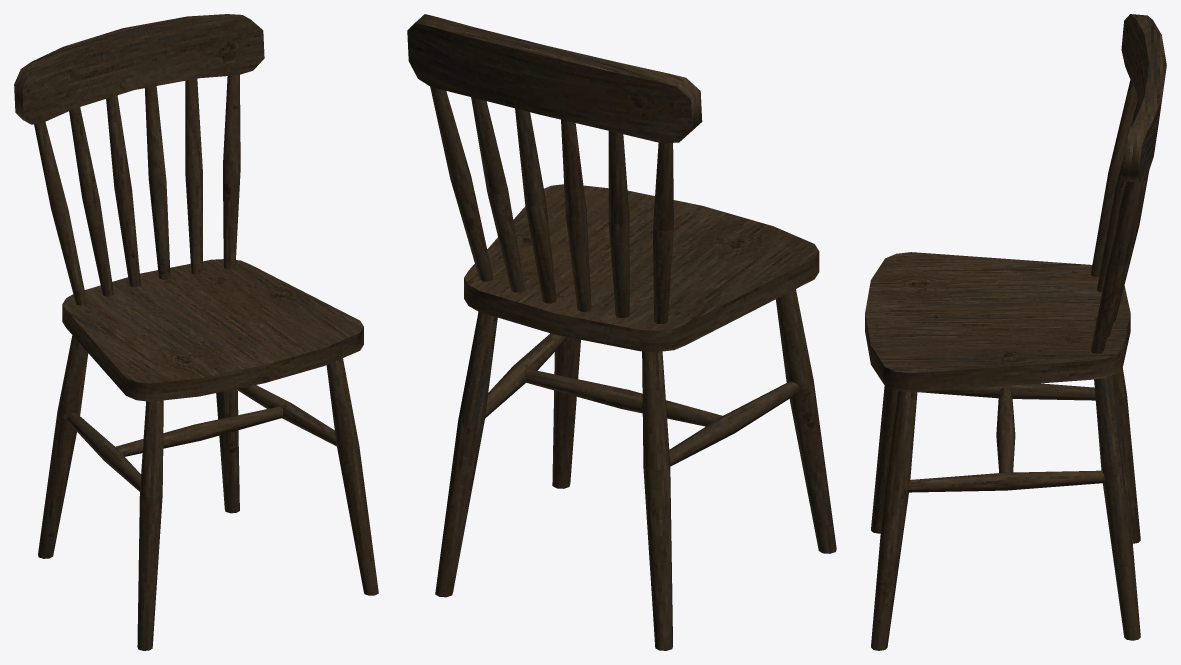
Rendered from chair_mp_5_3.glb.
3 views of the same model, side by side, from view 1: azimuth 30°, elevation 25°; view 2: azimuth 150°, elevation 25°; view 3: azimuth 270°, elevation 25° (orthographic). The views are drawn at different scales.
Visible parts, largest first — view 1: chair_mp_5_3; view 2: chair_mp_5_3; view 3: chair_mp_5_3.
Part boxes in pixels (<box>): chair_mp_5_3: <box>14,14,378,650</box>; chair_mp_5_3: <box>407,14,836,650</box>; chair_mp_5_3: <box>865,14,1166,650</box>.
Bounding box in the file's own units: 0.5145 × 1.01 × 0.5254.
Materials: 1 (1 with a texture image).
